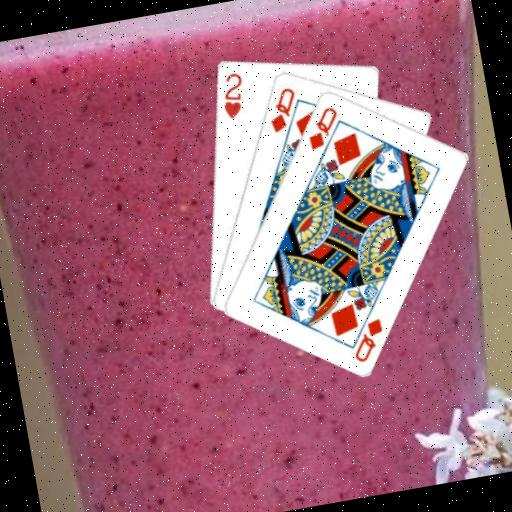2H: (214, 68, 250, 122)
QD: (299, 101, 344, 152), (345, 314, 389, 365), (261, 82, 302, 135)
